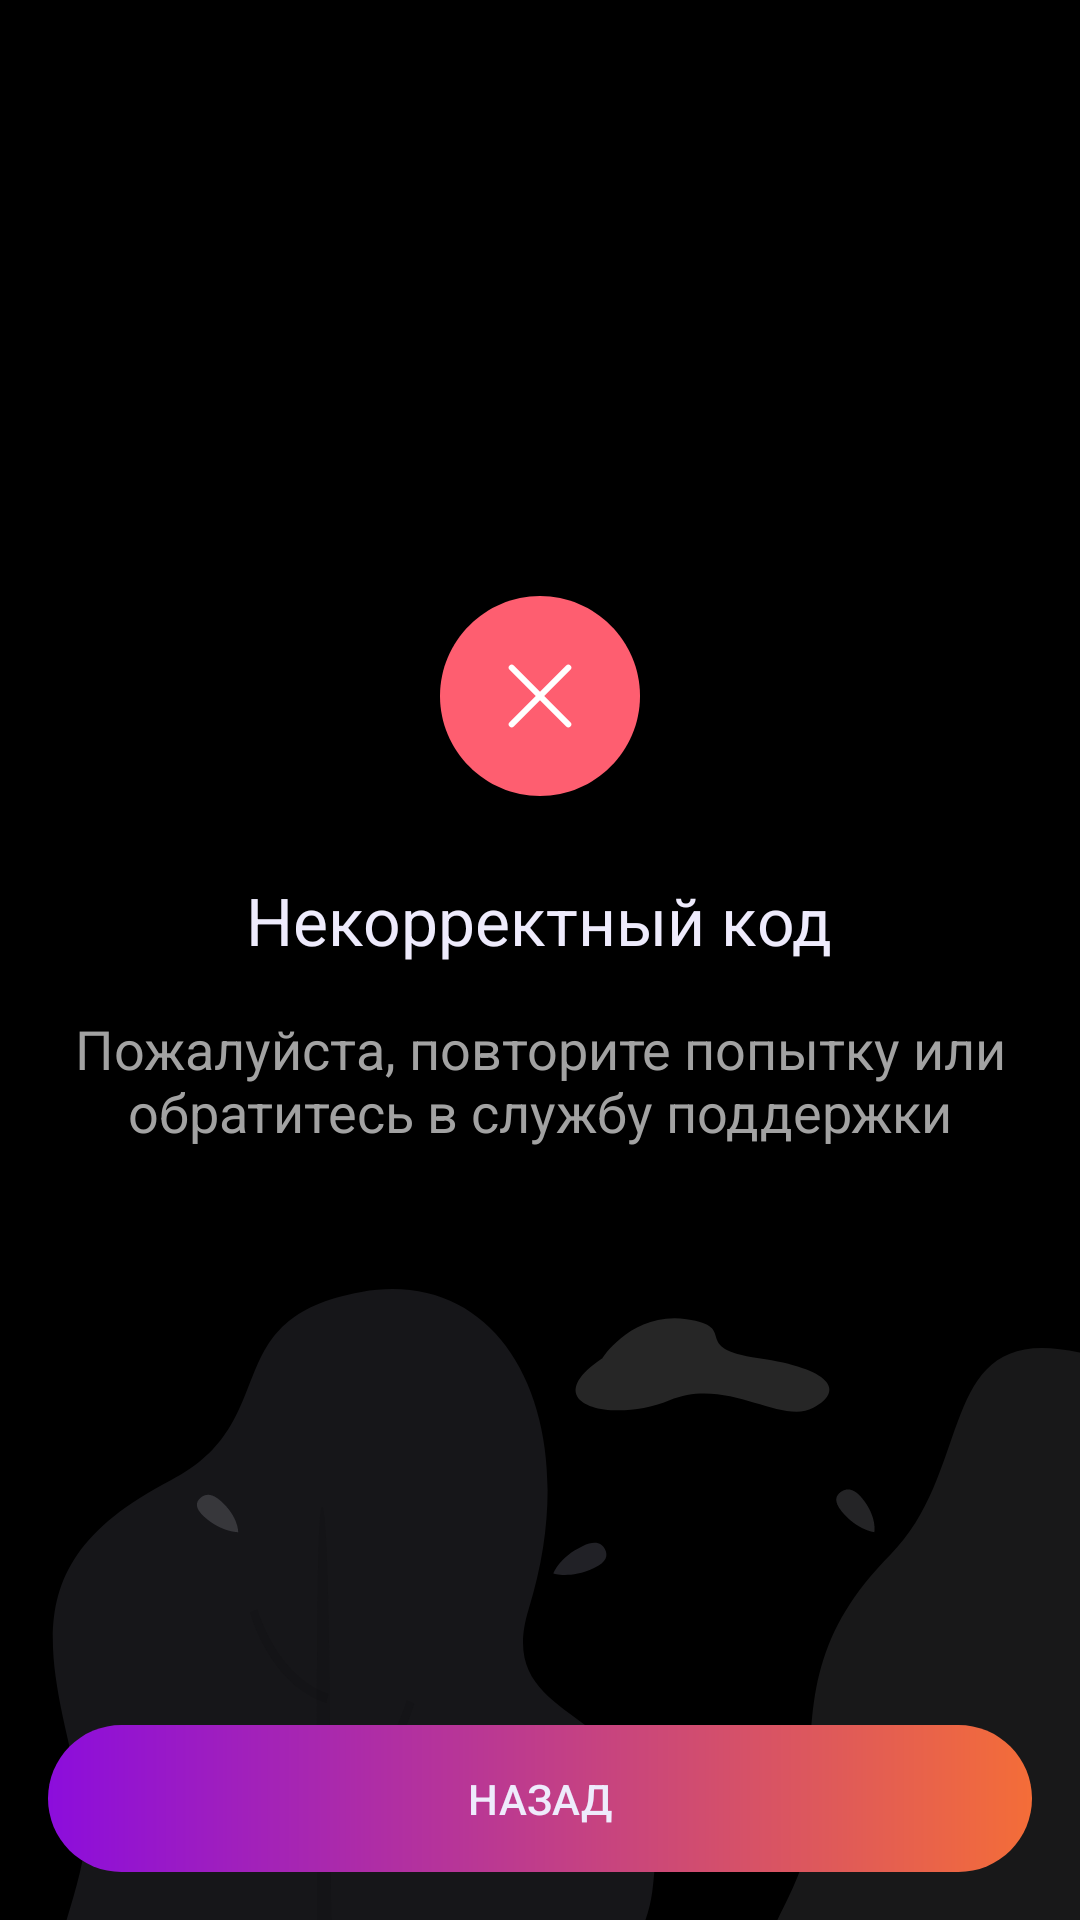

Icons on this 1080 × 1920 Android screen, each with the point to tap as (x,y):
error: (540,696)
